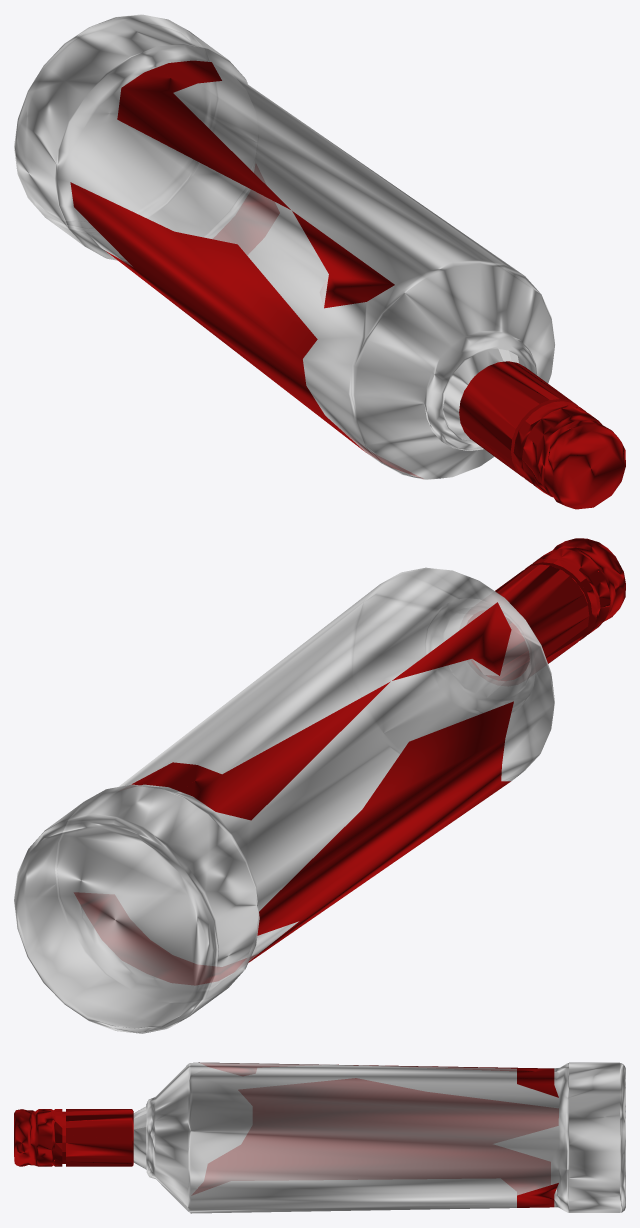
The model's file is model_align.obj.
3 renders of one model, top to bottom at view 1: azimuth 30°, elevation 25°; view 2: azimuth 150°, elevation 25°; view 3: azimuth 270°, elevation 25°, orthographic. The views are drawn at different scales.
Bounding box in the file's own units: 0.0478 × 0.0479 × 0.193.
